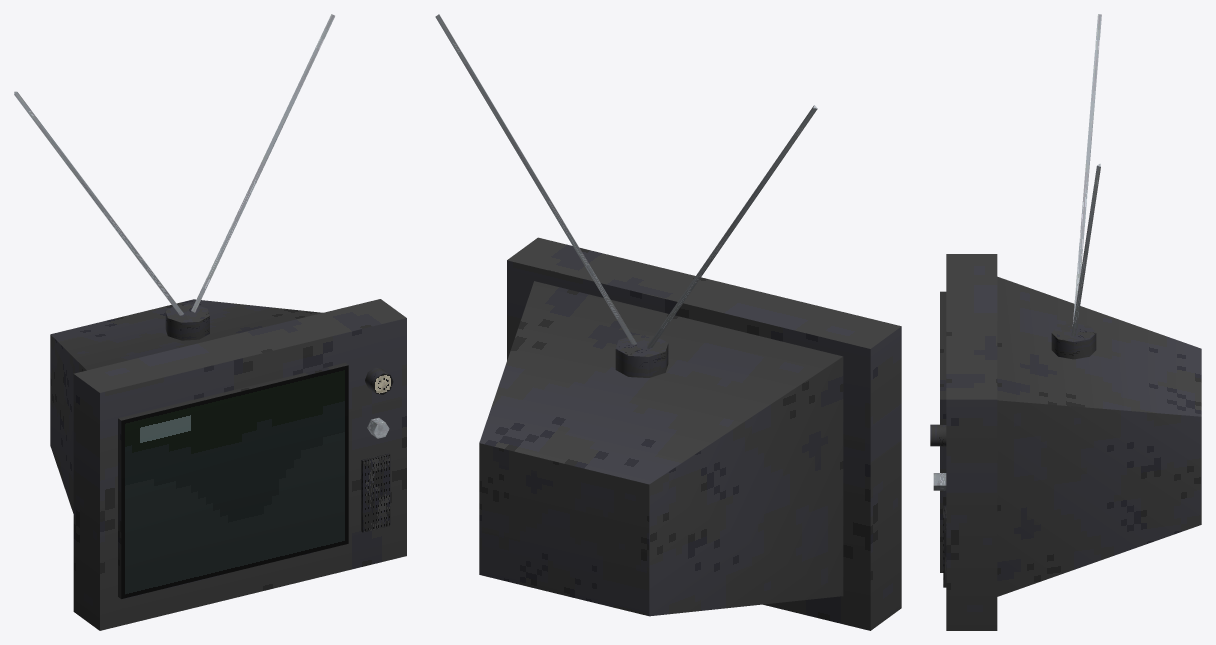
The picture shows the model from 3 angles, left to right: view 1: azimuth 30°, elevation 25°; view 2: azimuth 150°, elevation 25°; view 3: azimuth 270°, elevation 25°; orthographic projection. The views are drawn at different scales.
Visible parts, largest first — view 1: tv, tv_knob; view 2: tv; view 3: tv, tv_knob.
Part boxes in pixels (<box>): tv: <box>14,14,406,630</box>; tv_knob: <box>365,367,393,394</box>; tv: <box>435,14,901,630</box>; tv: <box>933,14,1201,630</box>; tv_knob: <box>930,424,946,446</box>.
Size of the model in its own units: 0.5657 by 0.8119 by 0.425.
1 material, 1 textured.
